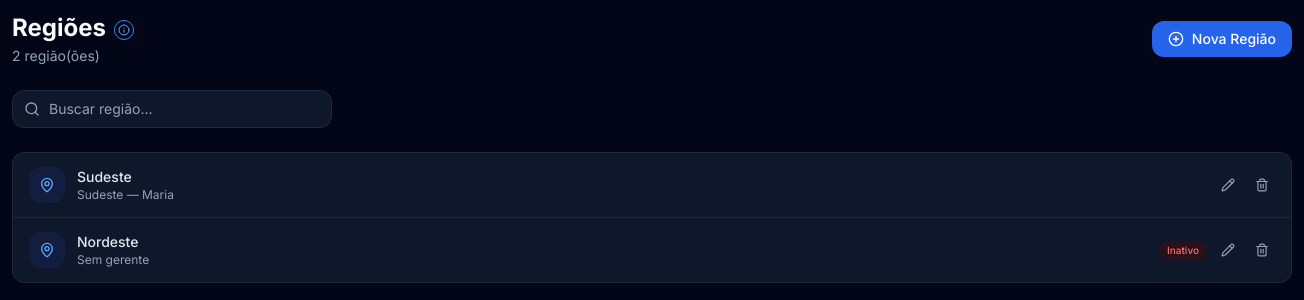
RegioesPage › filtra regiões pela busca
Expected: the text "Sudeste" is shown, [77,168,132,185]
Type "Nordeste" into the field with placeholder "Buscar região..." at (172,109), box [12,90,332,128]
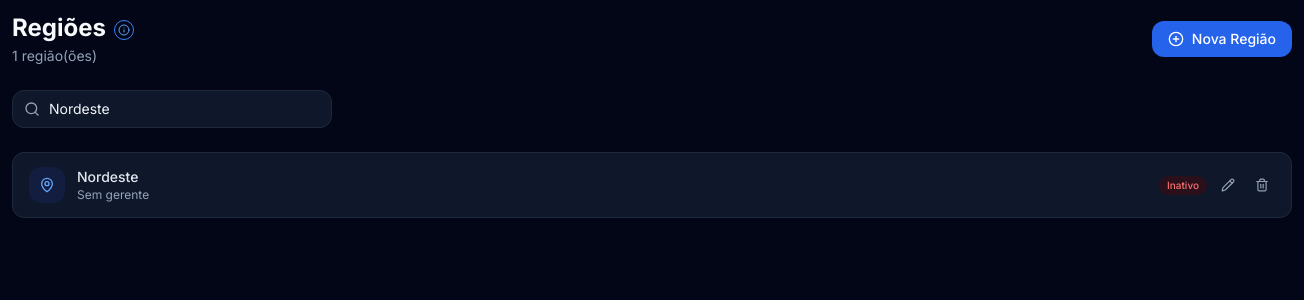
Expected: the text "Nordeste" is shown, [77,167,149,187]
Now the text "Sudeste" is gone
Now the text "1 região(ões)" is shown, box [12,47,97,64]
